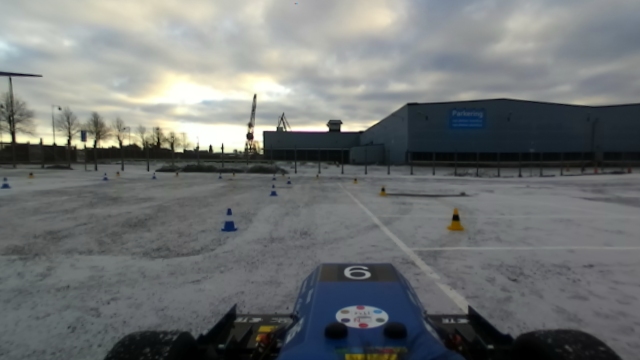blue: (219, 206, 238, 233)
yellow: (447, 206, 466, 232)
